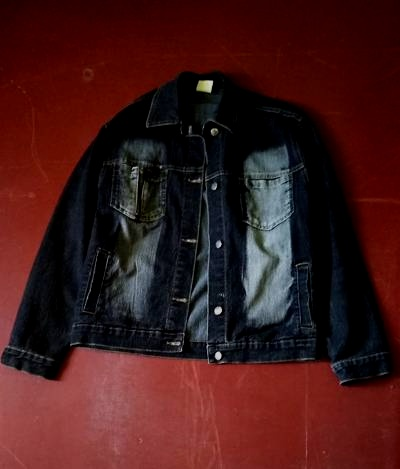Blazer: (7, 59, 385, 405)
